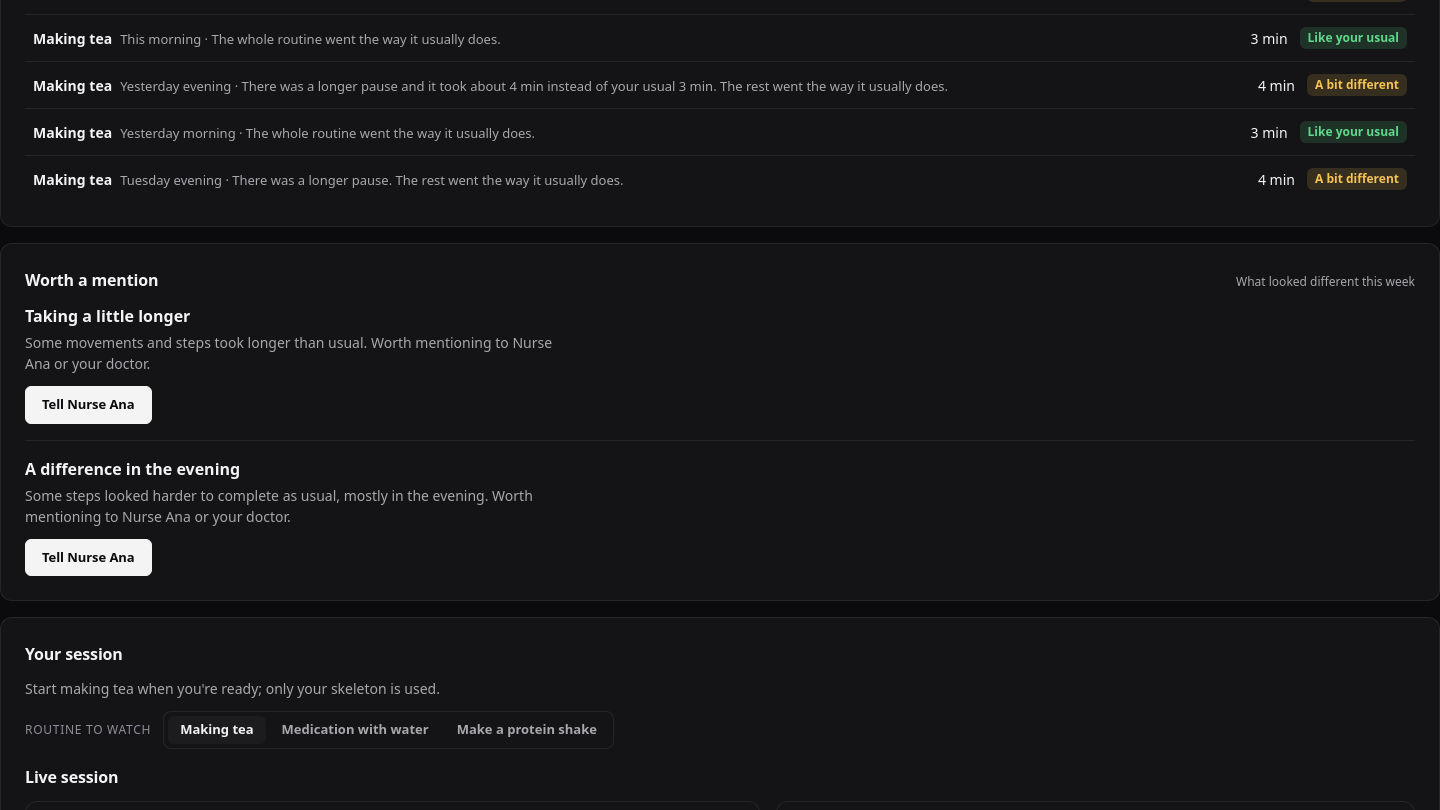
it: MyRoutine › offers to tell the person watching over them once there is one
(page scrolled)
Step 1. Click the button "Tell Nurse Ana" below "Taking a little longer" → (88, 405), box [25,386,152,424]
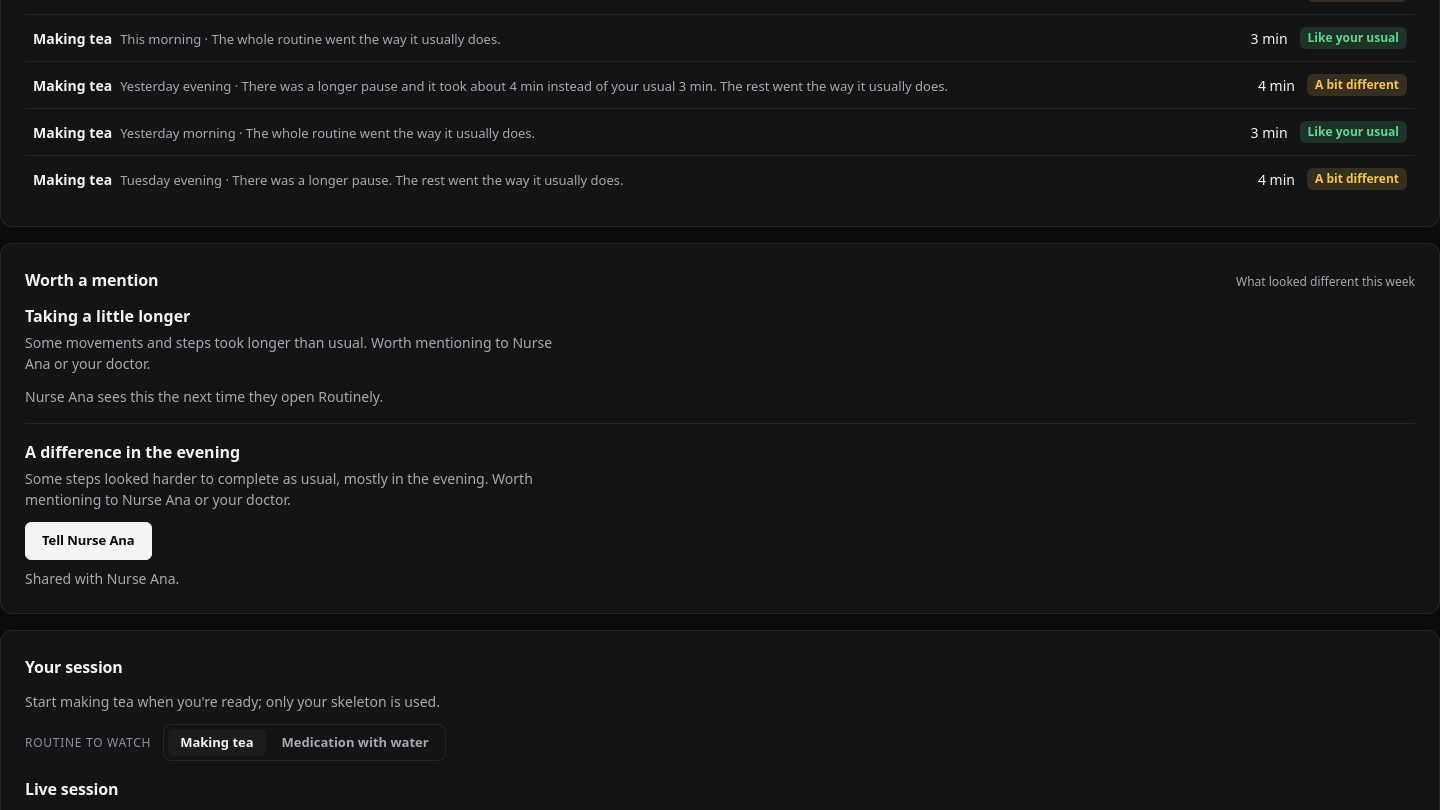
Check: the text "Shared with Nurse Ana." is shown, box [25,569,179,588]
Check: the text "Nurse Ana sees this the next time they open Routinely." is shown, box [25,387,383,406]
Check: the number of buttons "Tell Nurse Ana" is 1, box [25,522,152,560]
